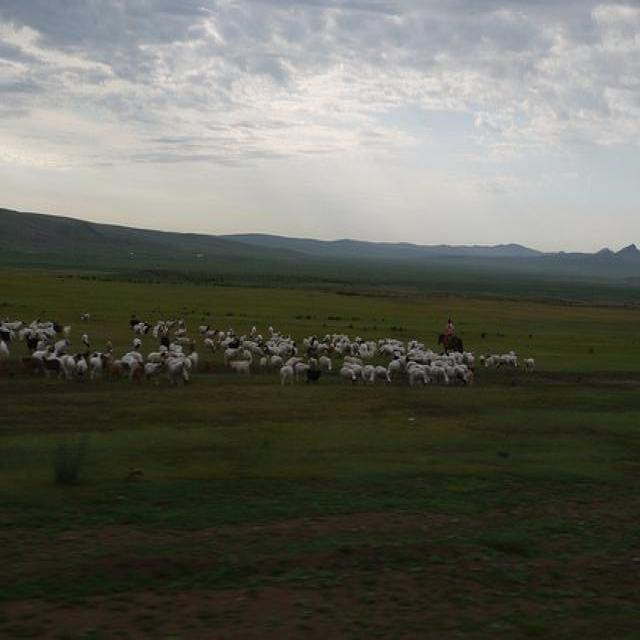Sheep: (0, 306, 536, 398)
